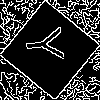Y: (25, 25, 74, 64)
